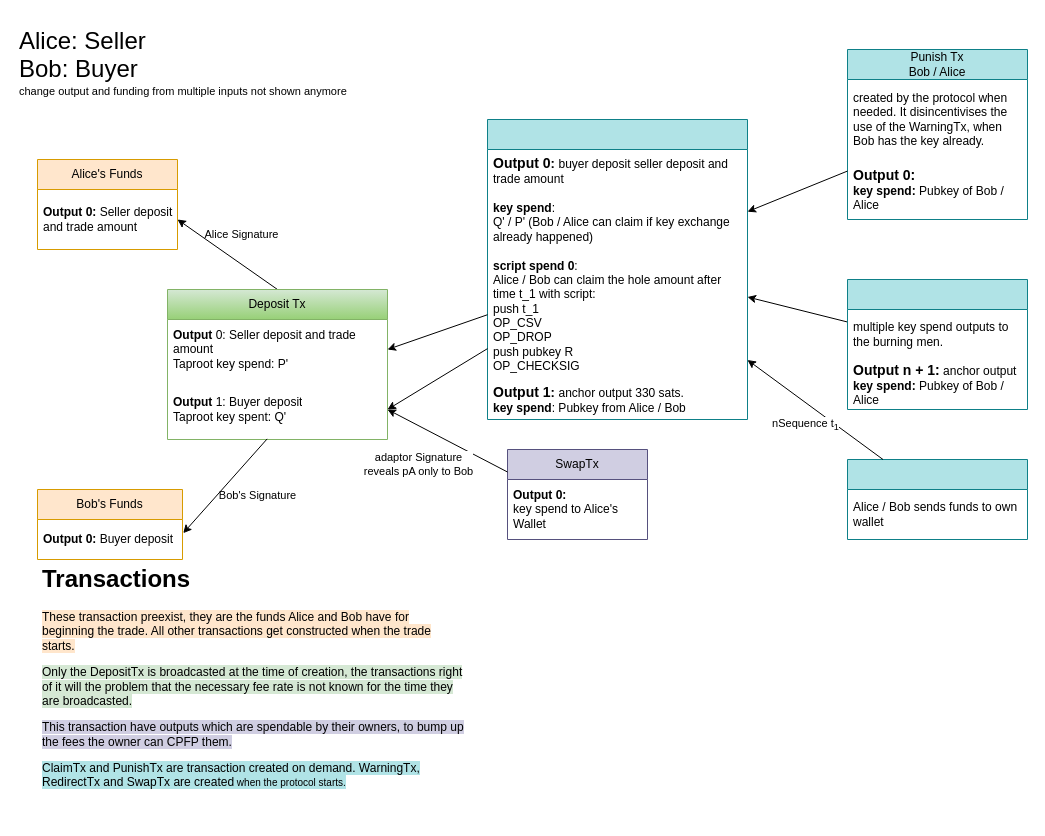
Image size: 1045x836. Some labels were removed from this diagram. Here are the shapes that lost their labels. From the top down, the box of each, then its label:
(486, 118, 748, 420): Warning Tx Alice / Bob
(846, 278, 1028, 410): Redirect Tx Bob / Alice
(846, 458, 1028, 540): ClaimTx Alice / Bob
